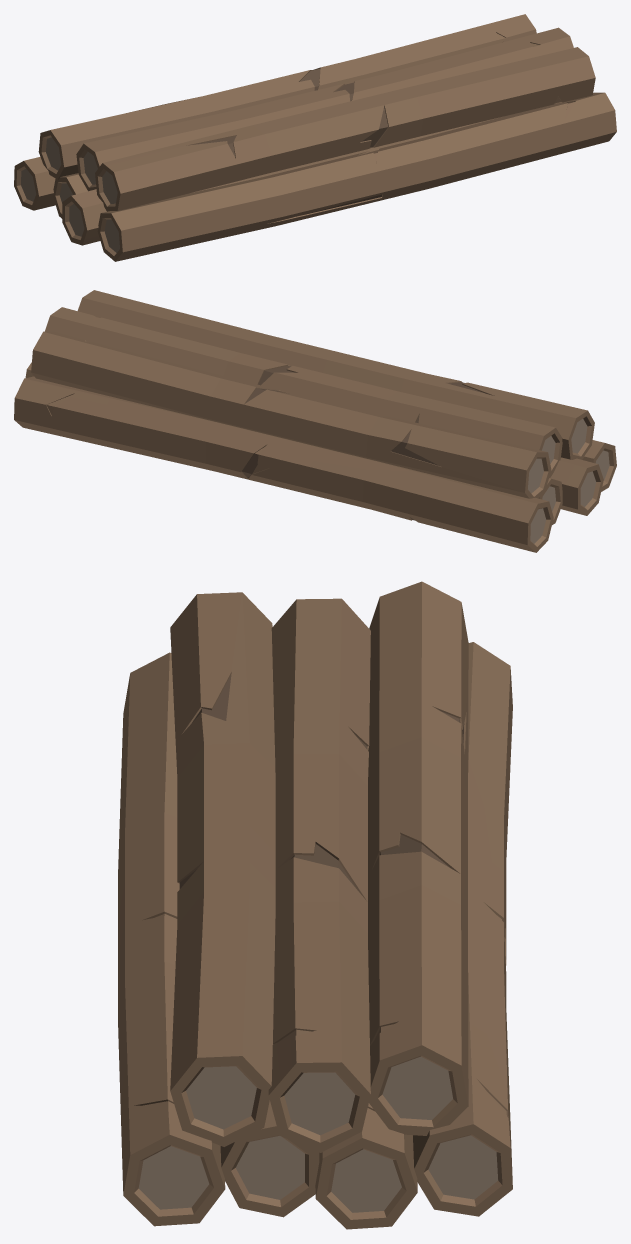
The model's file is props_86.glb.
3 views of the same model, one above another, from view 1: azimuth 30°, elevation 25°; view 2: azimuth 150°, elevation 25°; view 3: azimuth 270°, elevation 25° (orthographic). The views are drawn at different scales.
Visible parts, largest first — view 1: props_86; view 2: props_86; view 3: props_86.
Boxes of the visible parts, x1=… form: props_86: x1=14, y1=14, x2=616, y2=261; props_86: x1=14, y1=290, x2=616, y2=552; props_86: x1=118, y1=581, x2=512, y2=1229.
Size of the model in its own units: 3.14 by 0.4982 by 1.05.
Materials: 1 (1 with a texture image).
